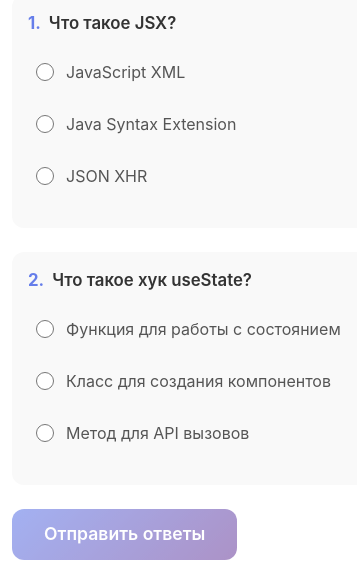
QuizRunner › should enable submit button only after all questions are answered
Expected: the button "Отправить ответы" is disabled, 12,509 -> 237,560
Click the radio button labelled "JavaScript XML".
click(45, 72)  # box 36,63 -> 54,81
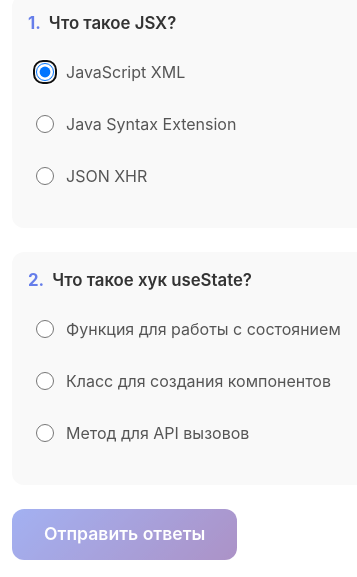
Expected: the button "Отправить ответы" is disabled, 12,509 -> 237,560
Click the radio button labelled "Функция для работы с состоянием".
click(45, 329)  # box 36,320 -> 54,338
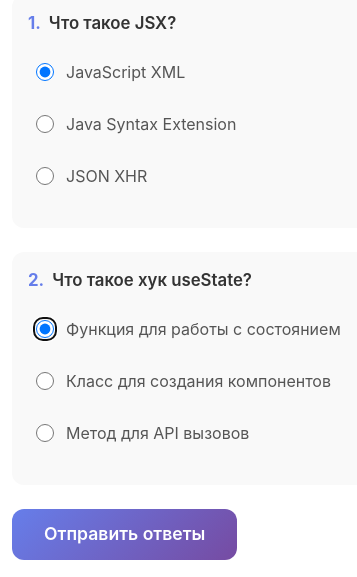
Expected: the button "Отправить ответы" is enabled, 12,509 -> 237,560
